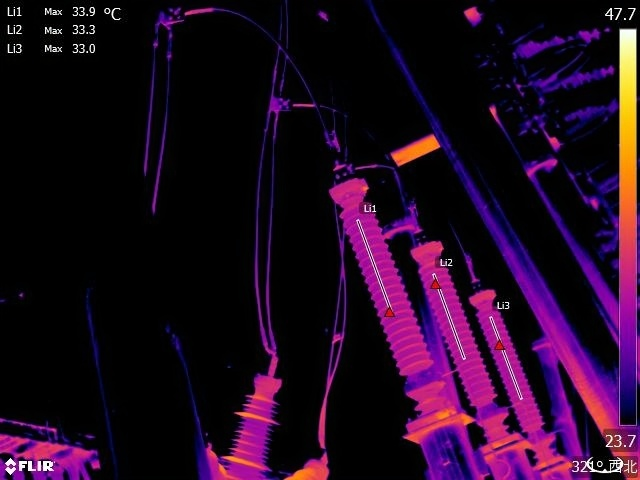clamp: (143, 5, 195, 38), (259, 89, 299, 122)
lightning arrester: (330, 160, 449, 433), (403, 223, 515, 440), (470, 279, 561, 453)
tube: (225, 337, 291, 480)
